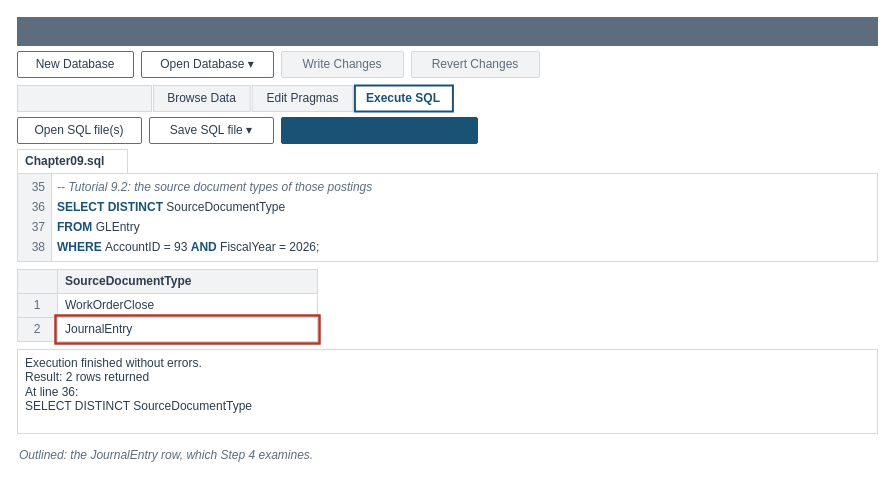
Some shapes in this 895 by 483 pixel diagram are drawn without their labels. The centre of each missing label's shape, as x and y in pixels:
Database Structure: [84,98]
DB Browser for SQLite - C:\Users\you\Documents\CharlesRiver_Work.sqlite: [447,31]
▶ Execute all/selected SQL: [379,130]
